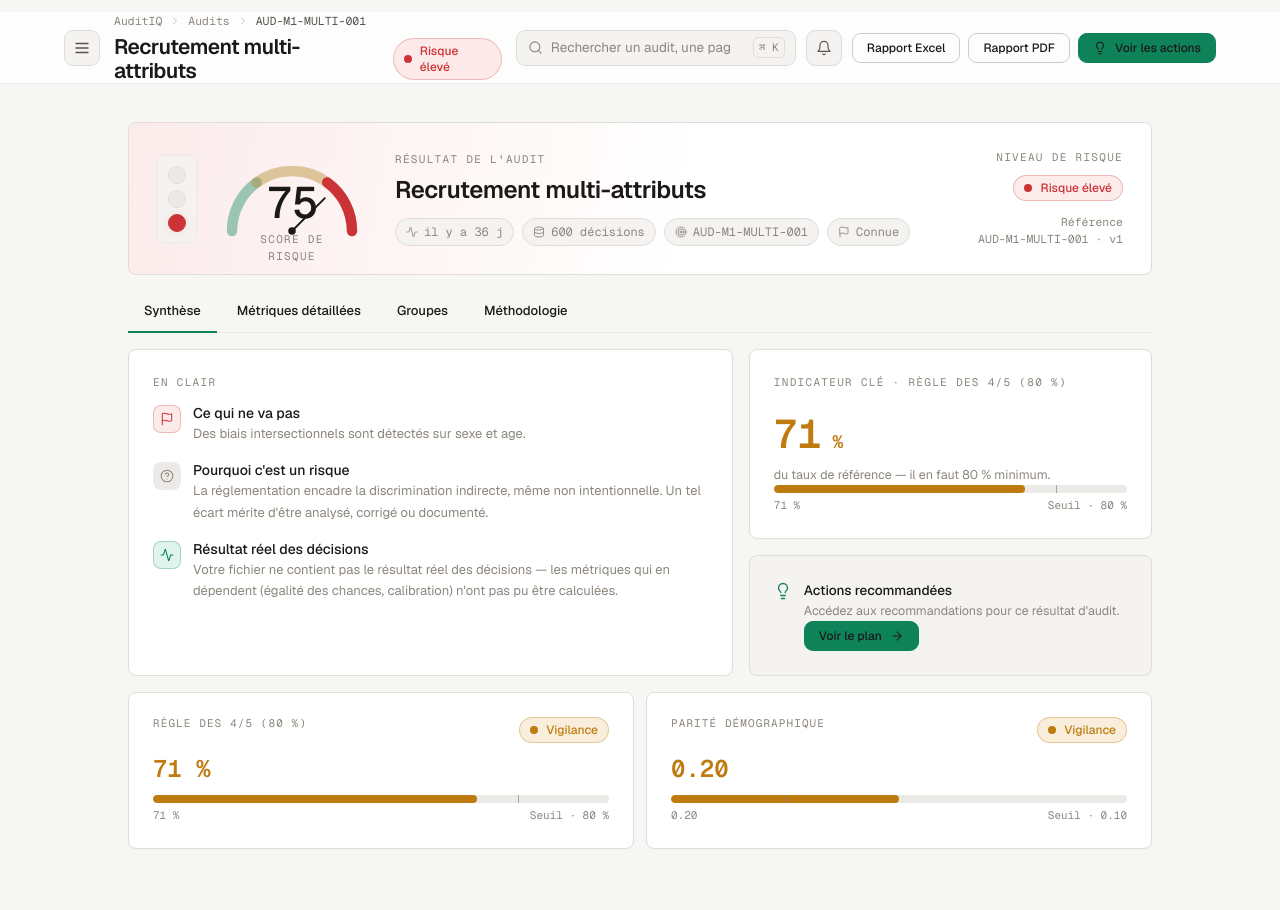
Scenario: M1 multi-attribute result page › renders Groupes tab with per-attribute marginal cards
The image size is (1280, 910).
Step 1. Click the tab "Groupes" → {"x": 422, "y": 312}, box [381,291,464,333]
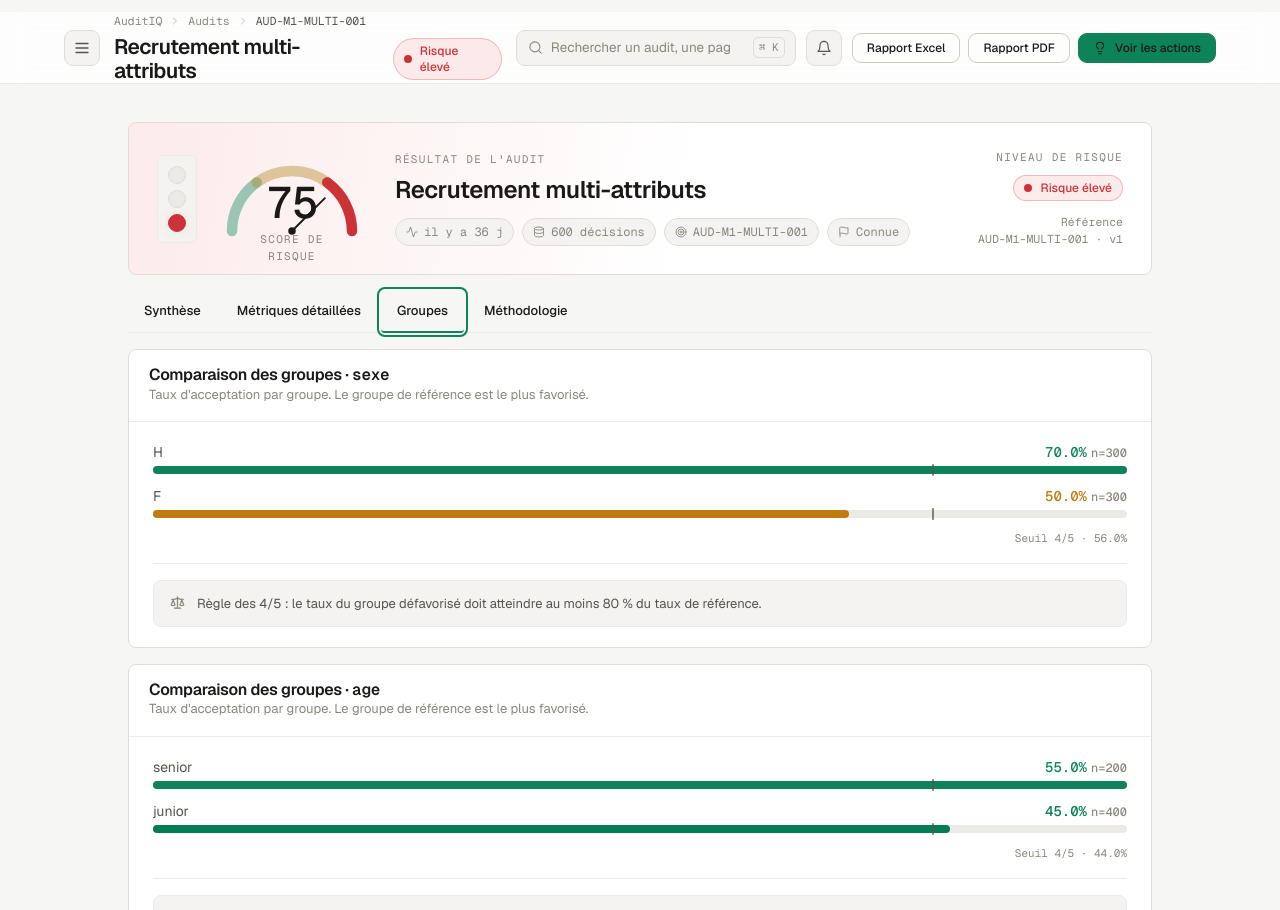
Result: the text "sexe" is shown at [352,364,389,385]
Result: the text "age" is shown at [352,679,380,700]
